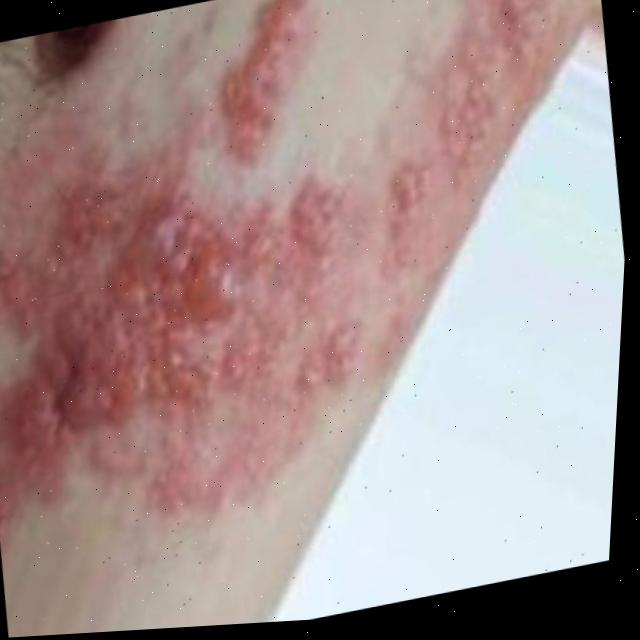Shingles: (0, 159, 491, 547), (218, 0, 334, 150), (456, 0, 545, 157)
